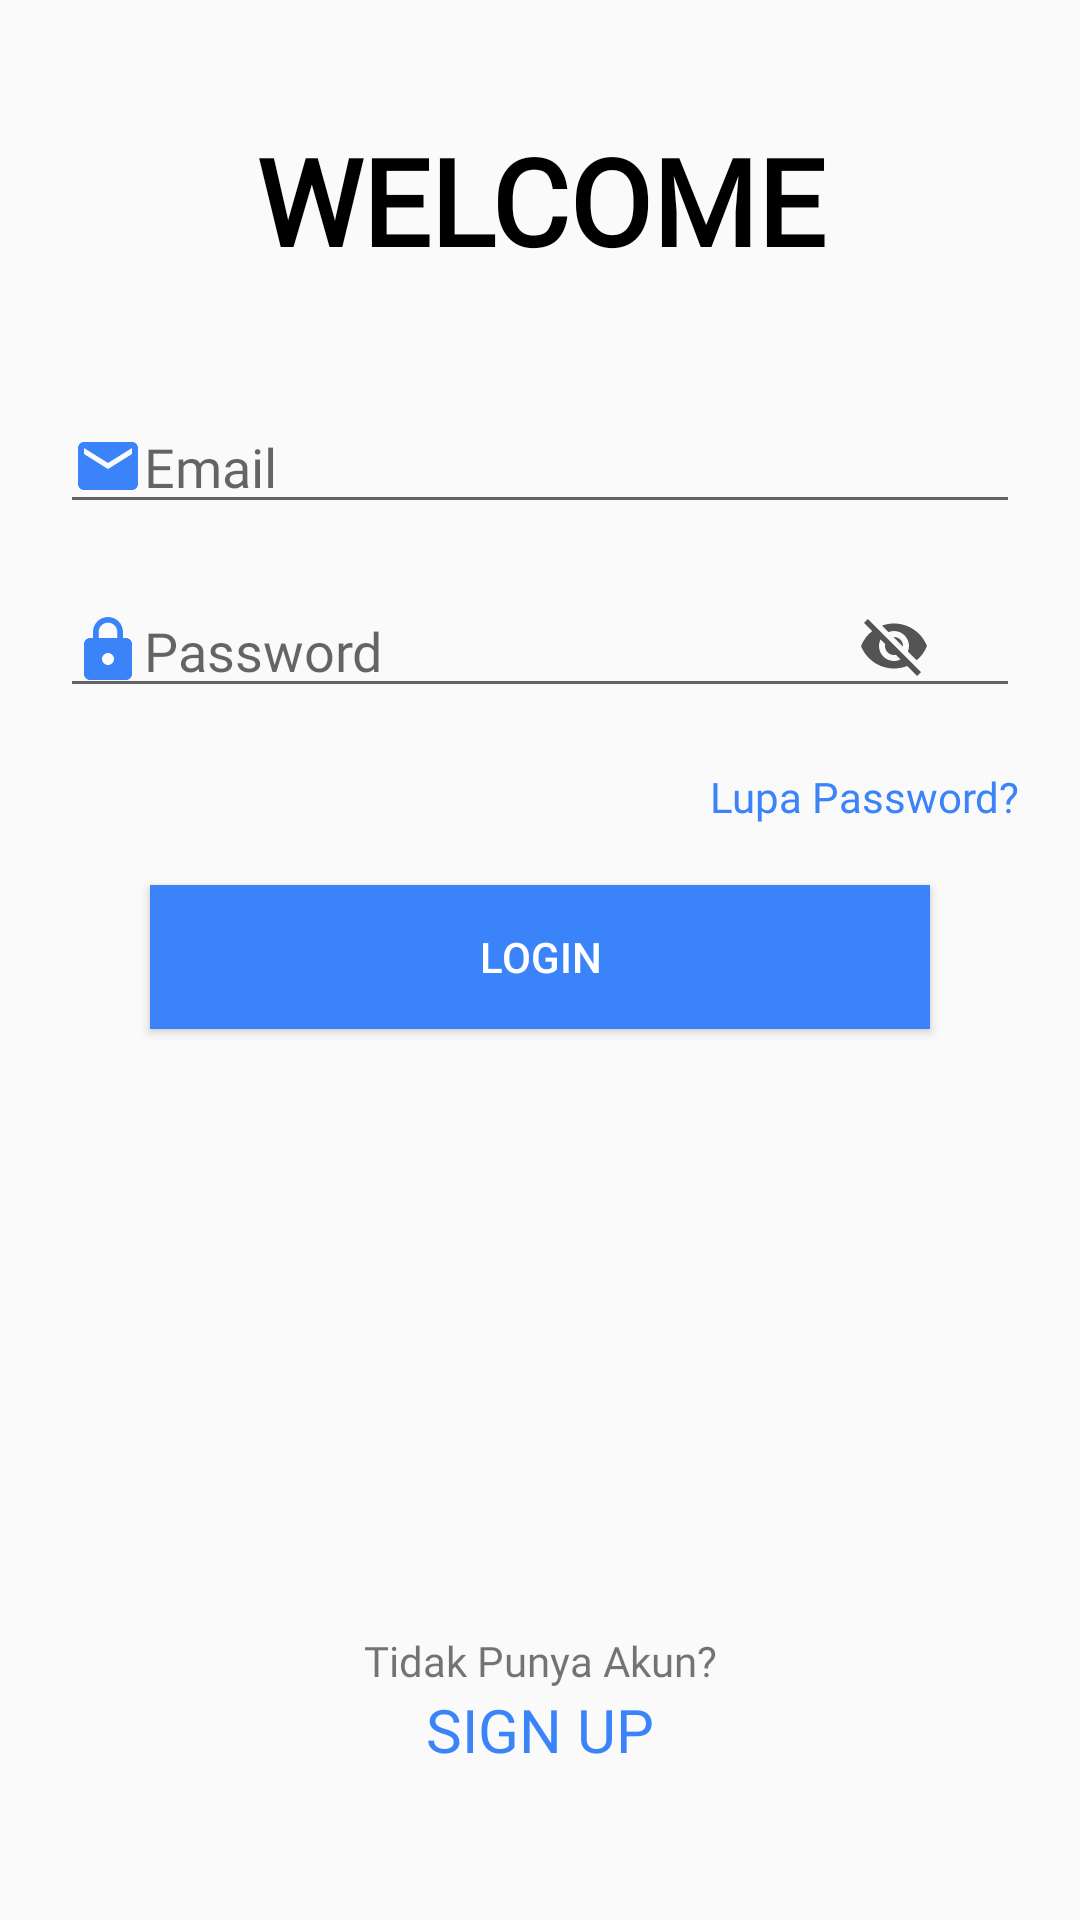

Screen size 1080px x 1920px. Icon name, then its box in pixels as (x1, y1, x2, y2):
hide pass: (861, 619, 927, 676)
